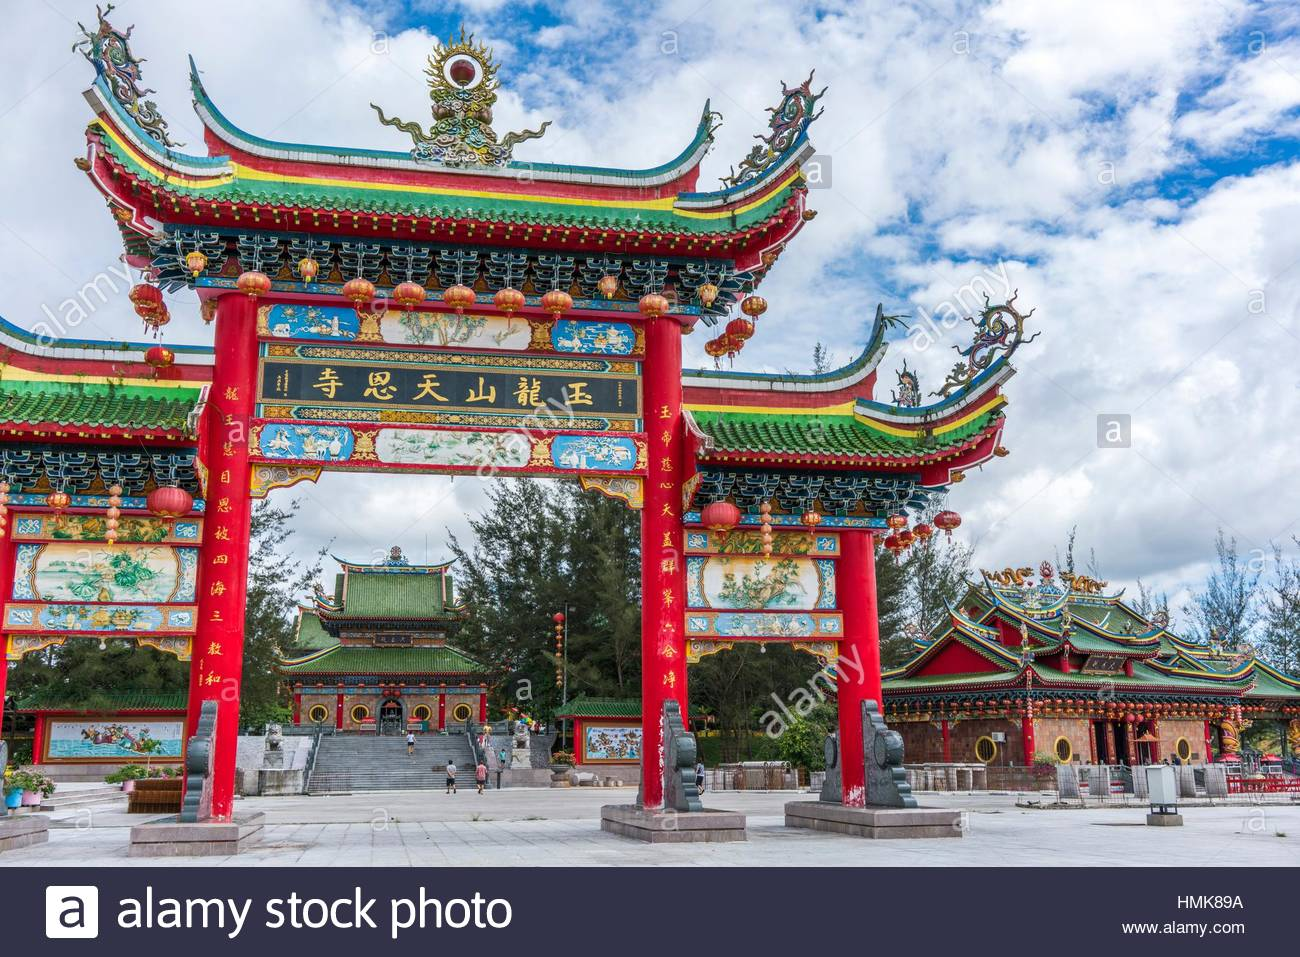Buddhist Temple: (23, 20, 986, 801)
